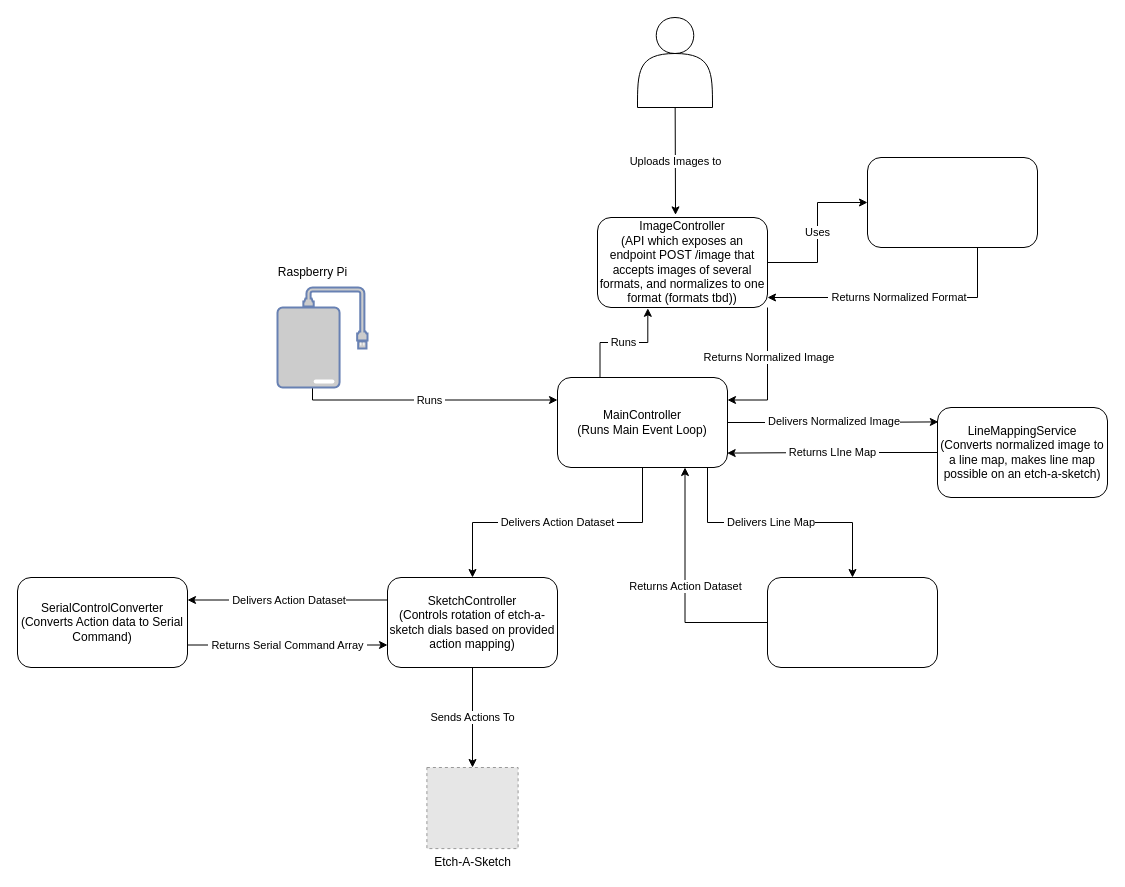
The diagram is 1125 pixels wide and 887 high, and some of its shapes have lost their labels. Grey dashed boxes stand in for pictures. Here are the shapes that lost their labels. From the top down, the box of each, then its label:
(636, 16, 712, 108): User
(866, 156, 1038, 248): ImageConverterService (Converts Images to single format (TBD))
(766, 576, 938, 668): ActionMappingService (Maps actions based on provided line map)
